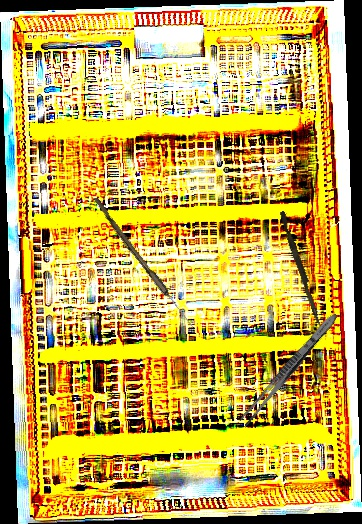Dressing Forceps: (237, 309, 341, 430)
Pusher: (276, 210, 327, 330)
Surgical Spoon: (90, 197, 197, 329)
